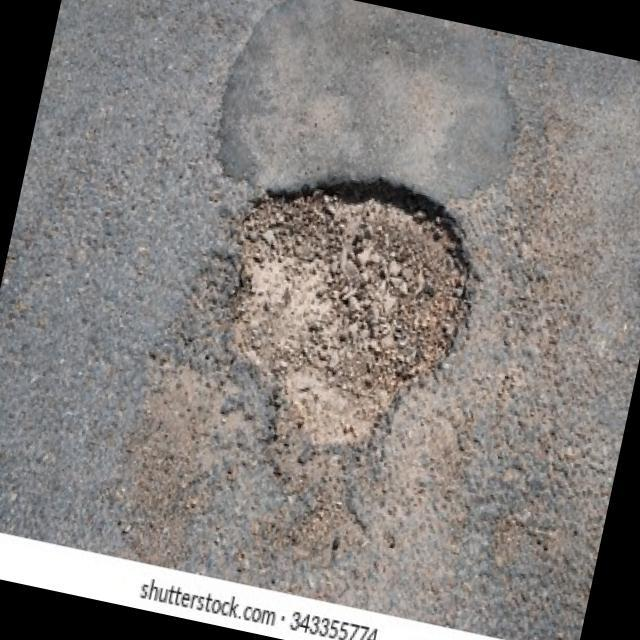Pothole: (199, 148, 495, 473)
